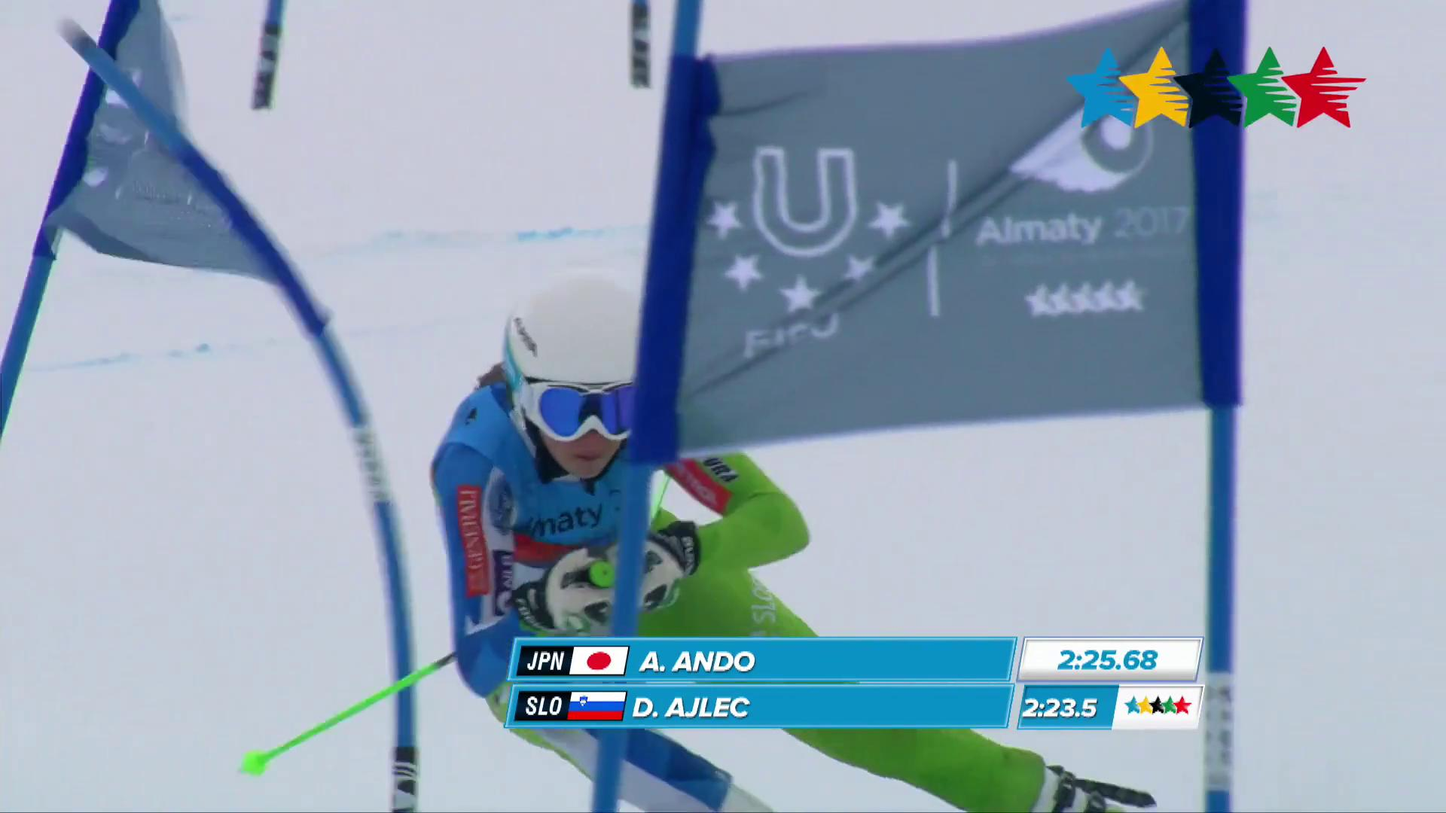gate: (60, 20, 414, 746), (612, 0, 710, 635), (1191, 120, 1244, 812), (1189, 0, 1246, 69), (592, 732, 629, 812)
